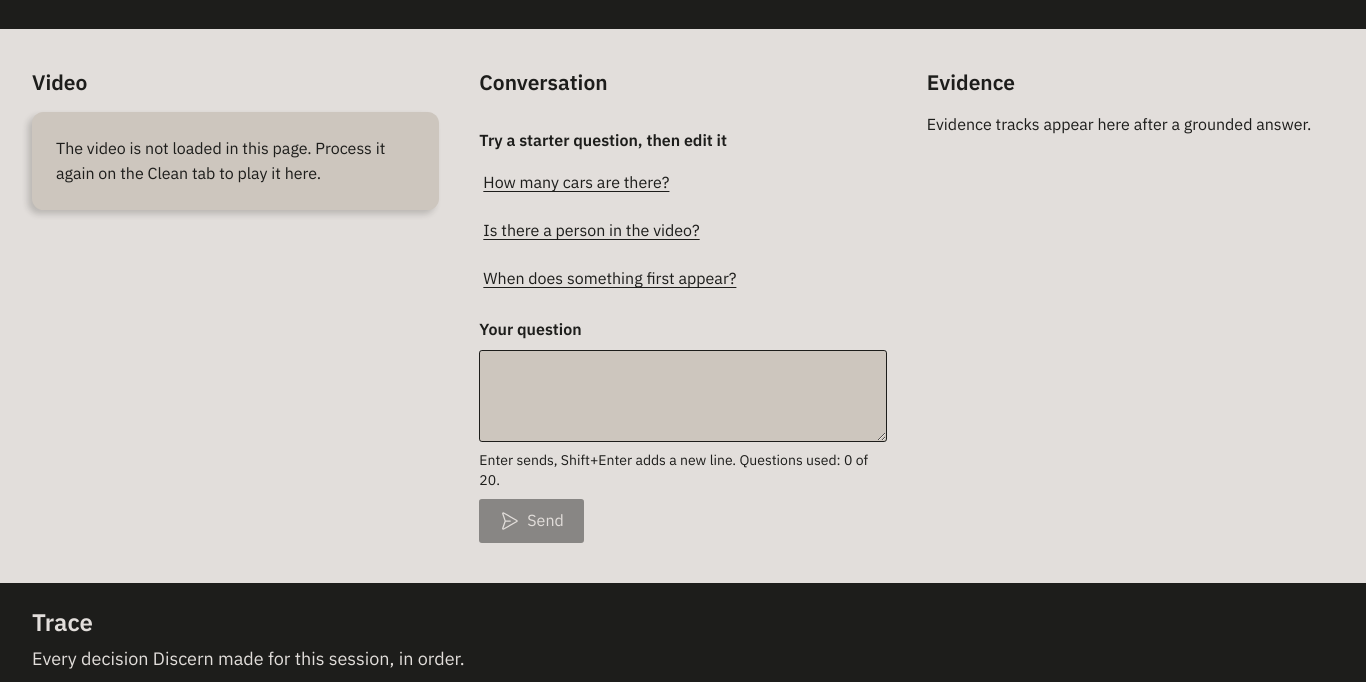
it: TraceView › shows an empty state, then events with expandable rows and fallback icon plus word
Step 1. Type "How many cars are there?" into the text box labelled "Your question" → (683, 396), box [479,350,887,442]
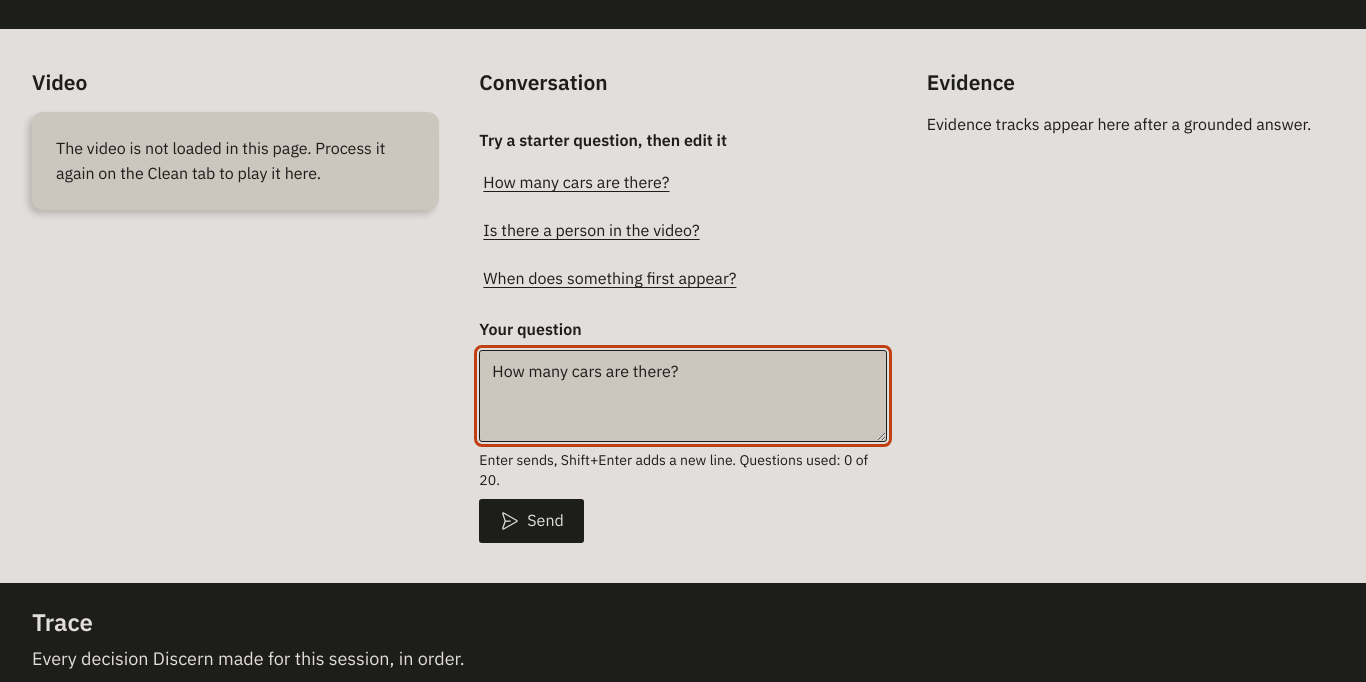
Step 2. Click the button "Send" → (532, 521), box [479,499,584,543]
(page scrolled)
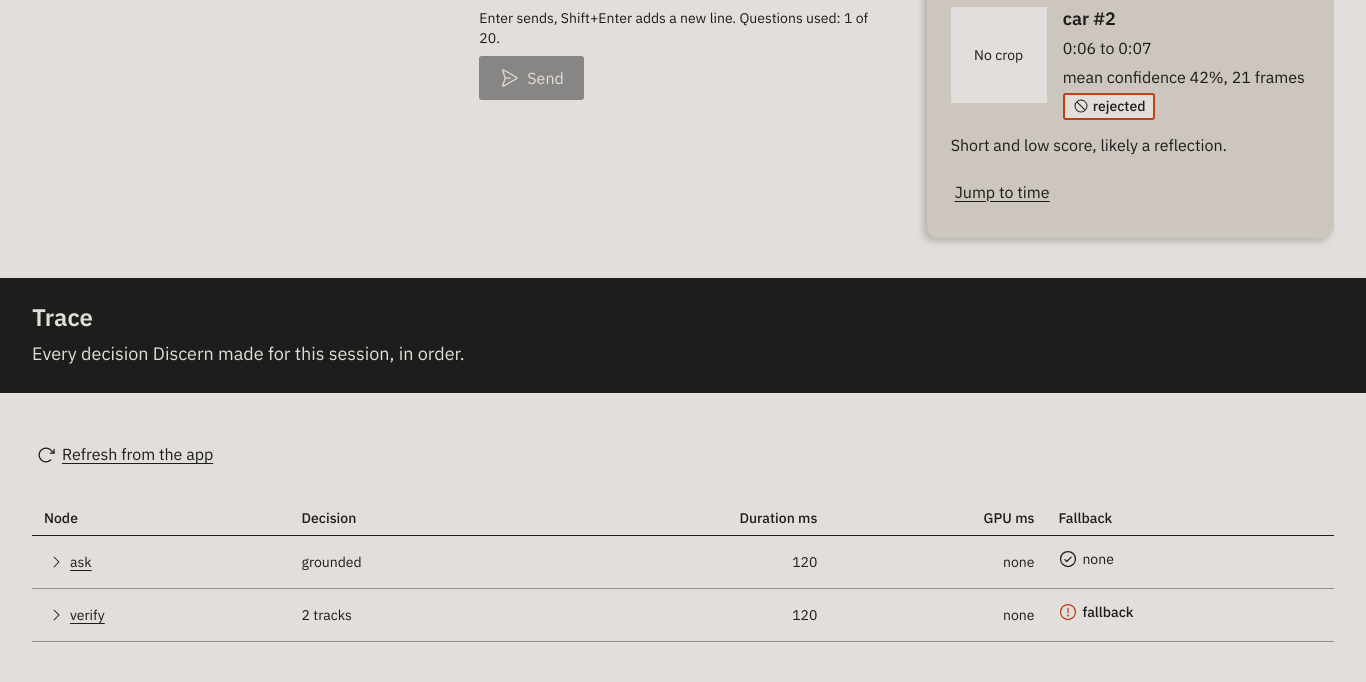
Now the text "fallback" is shown, box [1058,602,1134,622]
Step 3. Click the button "ask" → (70, 562), box [44,540,96,584]
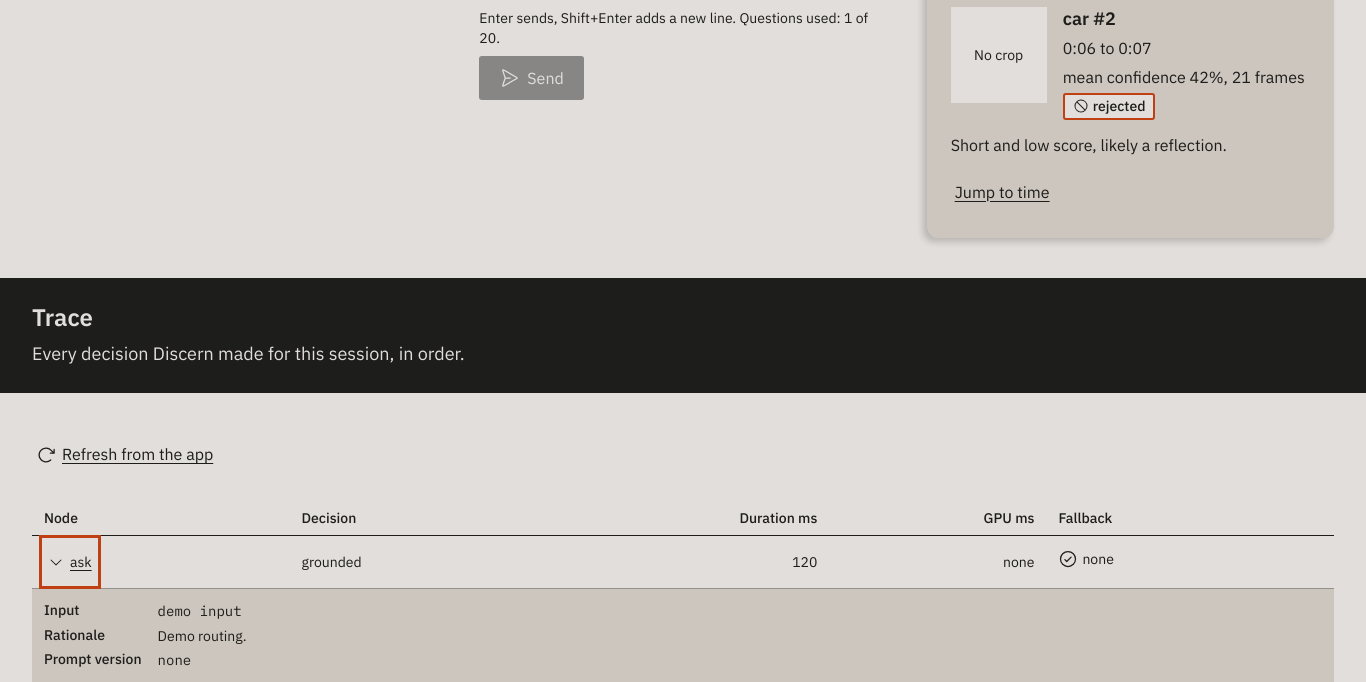
Now the button "ask" is expanded, box [44,540,96,584]
Now the text "Rationale" is shown, box [44,626,105,644]
